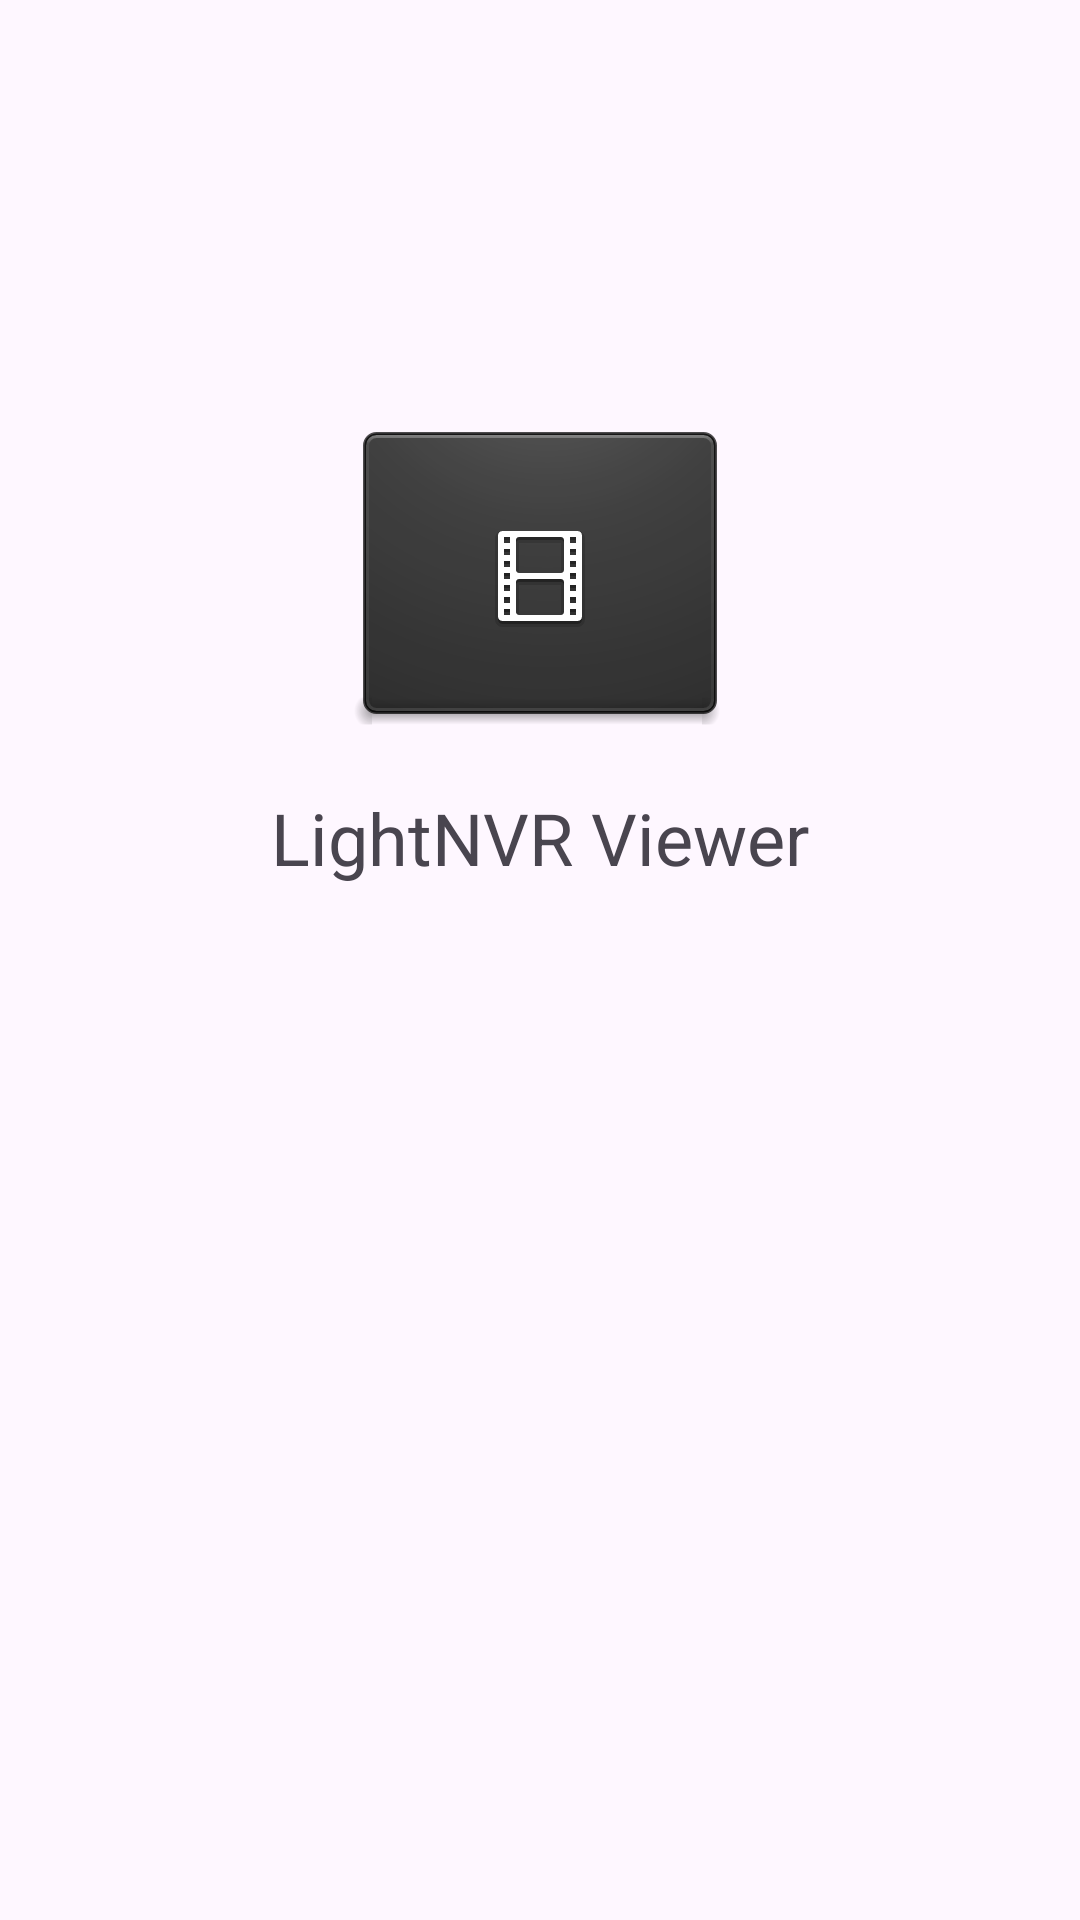

Icons on this 1080px x 1920px Android screen, each with the point to tap as [x,y]:
video generic: [538,578]
